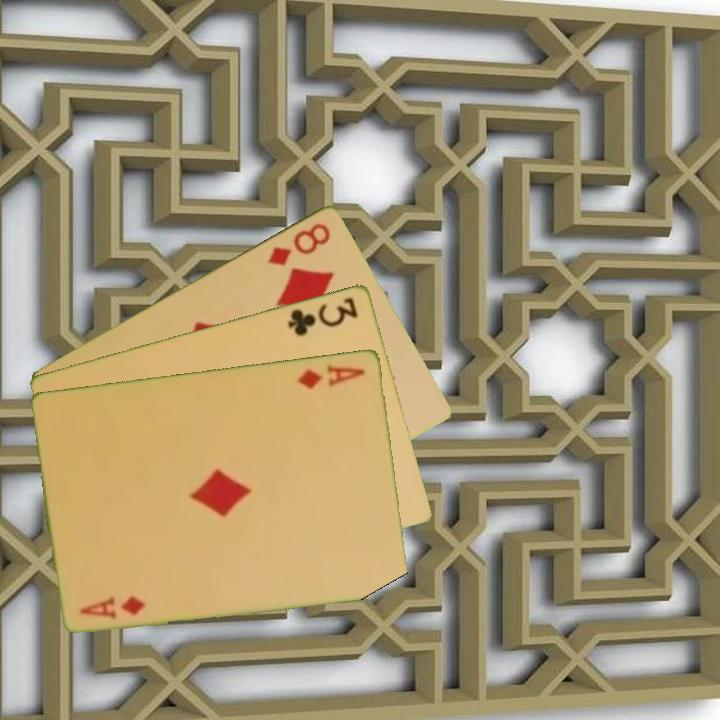3c: (284, 293, 361, 339)
8d: (263, 218, 334, 269)
Ad: (294, 360, 368, 392), (76, 591, 149, 621)
